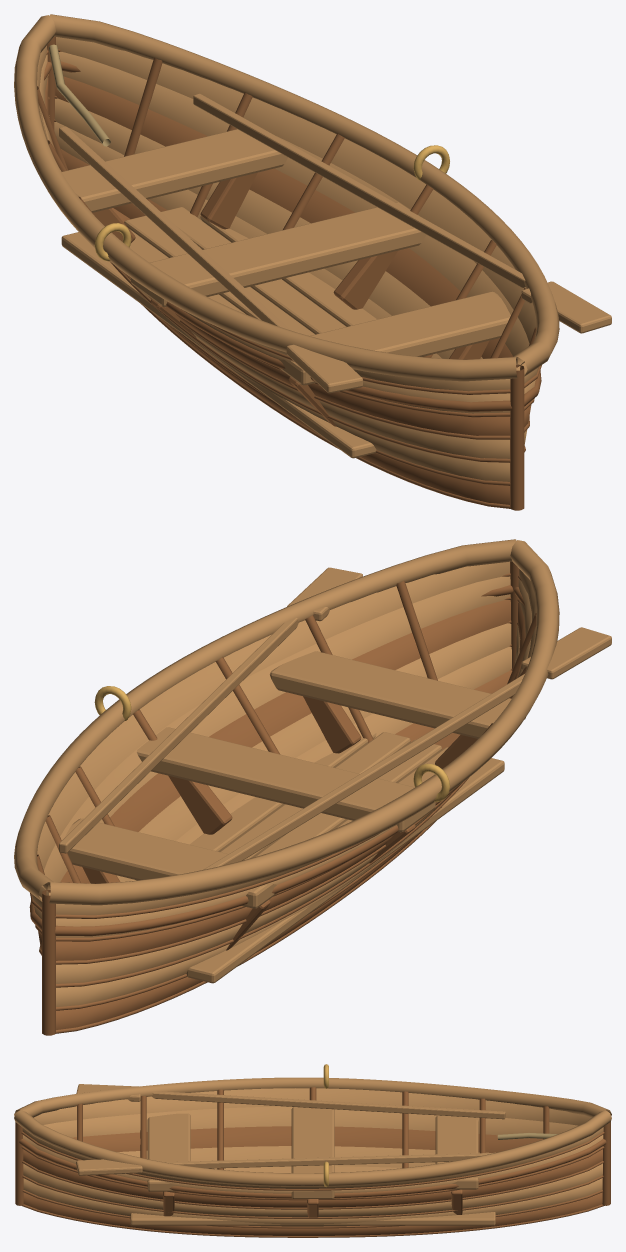
File: dinghy.fbx
The picture shows the model from 3 angles, top to bottom: view 1: azimuth 30°, elevation 25°; view 2: azimuth 150°, elevation 25°; view 3: azimuth 270°, elevation 25°; orthographic projection. The views are drawn at different scales.
Visible parts, largest first — view 1: dinghy • Timber • cut end, dinghy • Timber • warm oak, dinghy • Brass • warm frames, dinghy • Rope • flax; view 2: dinghy • Timber • cut end, dinghy • Timber • warm oak, dinghy • Brass • warm frames; view 3: dinghy • Timber • cut end, dinghy • Timber • warm oak, dinghy • Rope • flax, dinghy • Brass • warm frames.
Boxes of the visible parts, x1,y1,x2,y2 form: dinghy • Timber • cut end: (14, 14, 611, 481); dinghy • Timber • warm oak: (37, 36, 541, 510); dinghy • Brass • warm frames: (94, 145, 449, 261); dinghy • Rope • flax: (48, 44, 110, 146); dinghy • Timber • cut end: (14, 539, 611, 1006); dinghy • Timber • warm oak: (29, 561, 536, 1035); dinghy • Brass • warm frames: (94, 686, 449, 801); dinghy • Timber • cut end: (14, 1077, 611, 1226); dinghy • Timber • warm oak: (15, 1087, 610, 1237); dinghy • Rope • flax: (497, 1133, 557, 1139); dinghy • Brass • warm frames: (323, 1064, 328, 1186).
Bounding box in the file's own units: 2.49 × 1.19 × 5.81.
